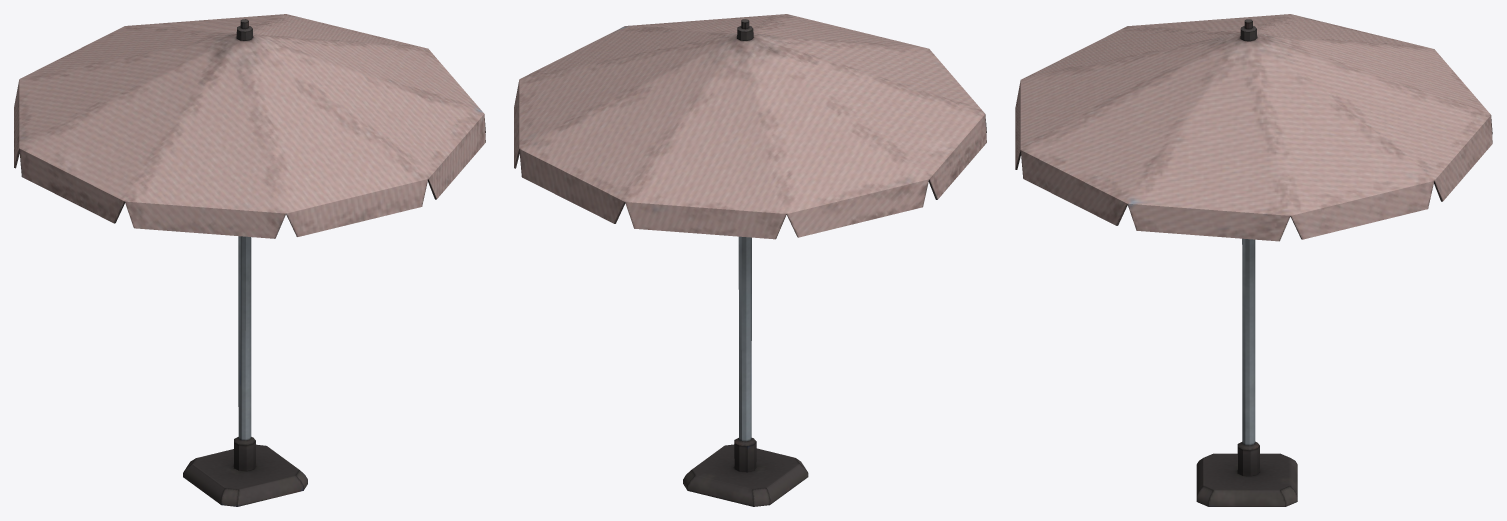
3 renders of one model, left to right at view 1: azimuth 30°, elevation 25°; view 2: azimuth 150°, elevation 25°; view 3: azimuth 270°, elevation 25°, orthographic.
Parts seen in each view (by area): view 1: Umbrella; view 2: Umbrella; view 3: Umbrella.
Boxes of the visible parts, bbox=[...] form: Umbrella: bbox=[14, 14, 485, 506]; Umbrella: bbox=[514, 14, 986, 506]; Umbrella: bbox=[1015, 14, 1492, 506].
Size of the model in its own units: 171 by 180 by 168.
1 material, 1 textured.
